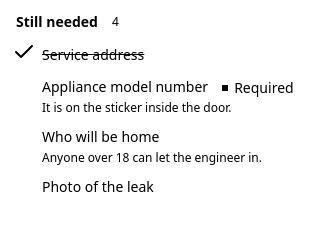
Scenario: checklist caller edits › a refused edit shows the plain-words error under the item
Step 1. Click the checkbox named "Service address" → (24, 52), box [16,44,32,60]
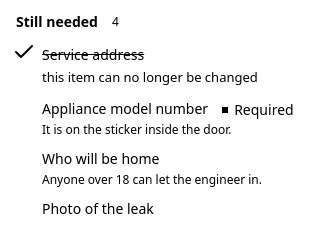
Now the message reads "this item can no longer be changed", box [42,68,258,86]
